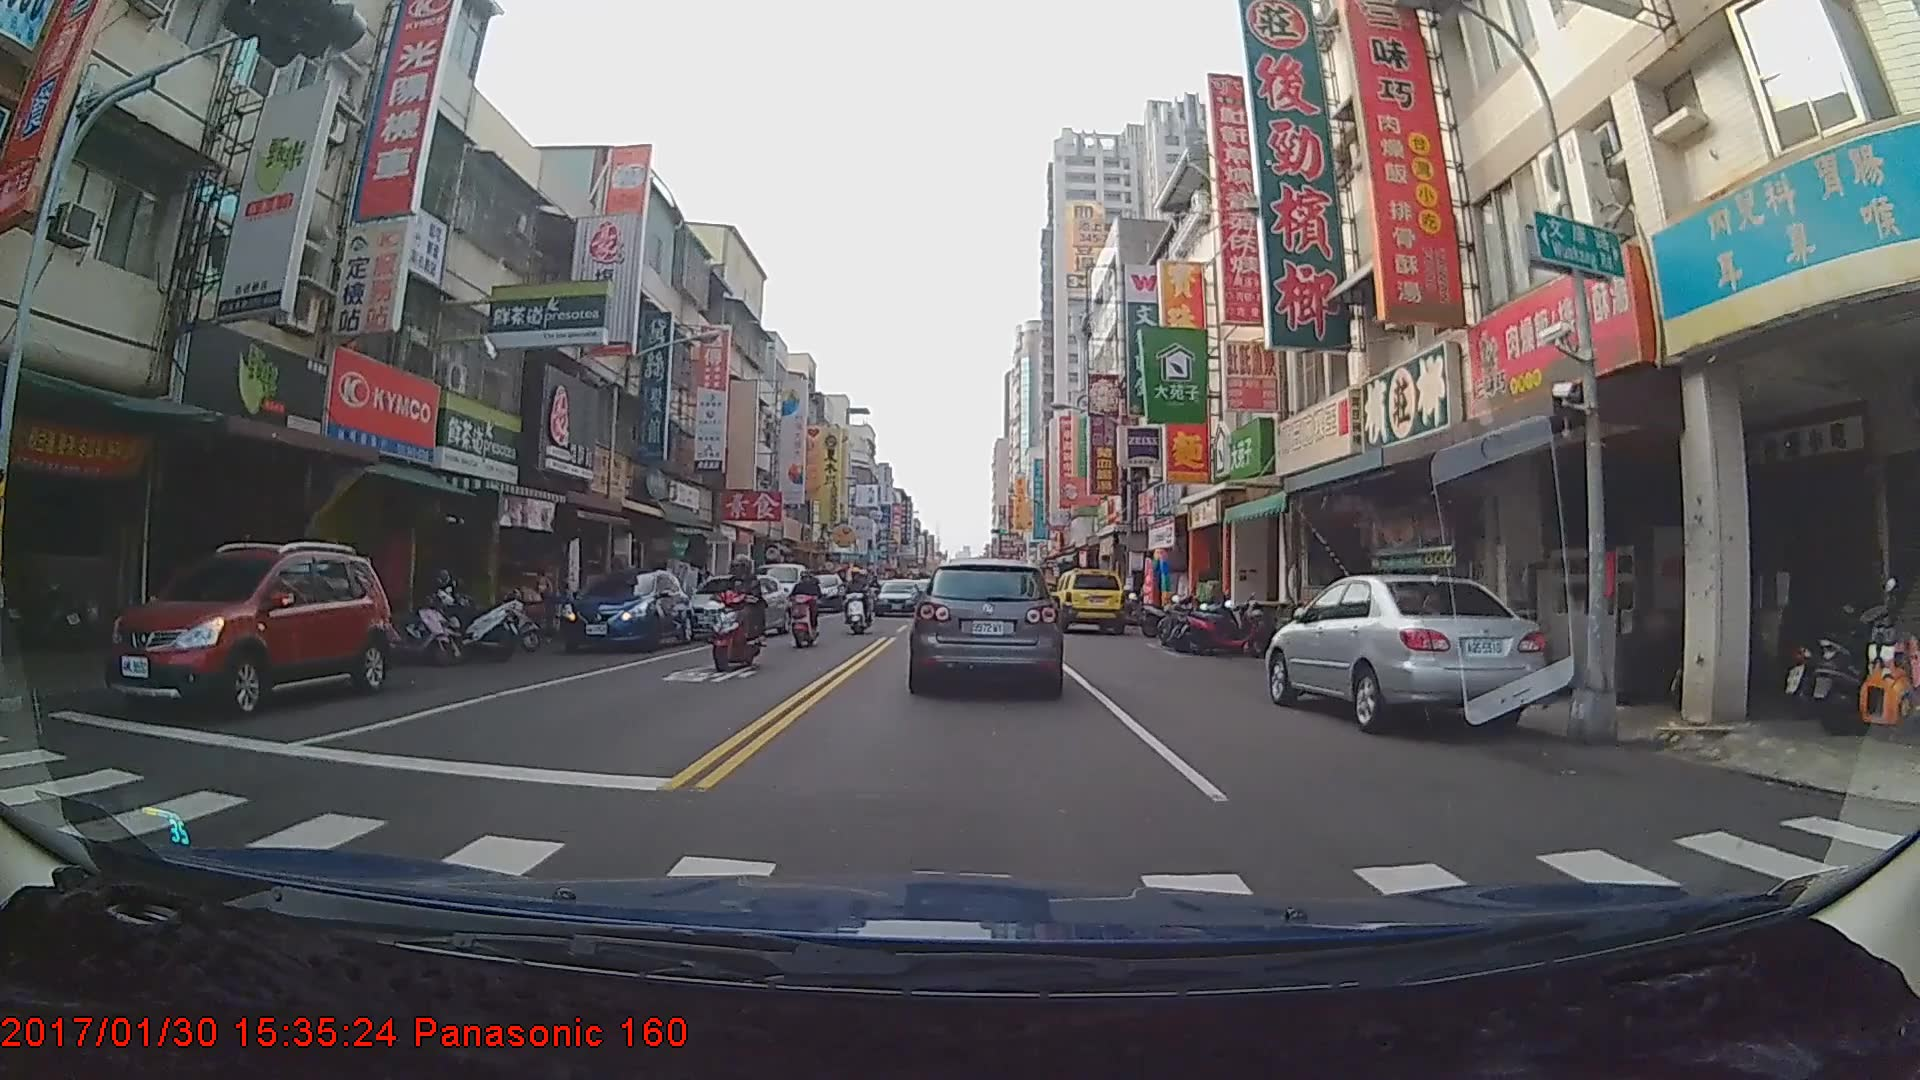rider: (708, 552, 770, 681), (786, 568, 823, 649), (841, 575, 874, 644)
vehicle: (101, 543, 386, 715), (1261, 571, 1548, 735), (913, 554, 1060, 694), (556, 569, 695, 653), (682, 574, 793, 639), (1049, 565, 1126, 633), (752, 563, 809, 619), (871, 579, 924, 618)
